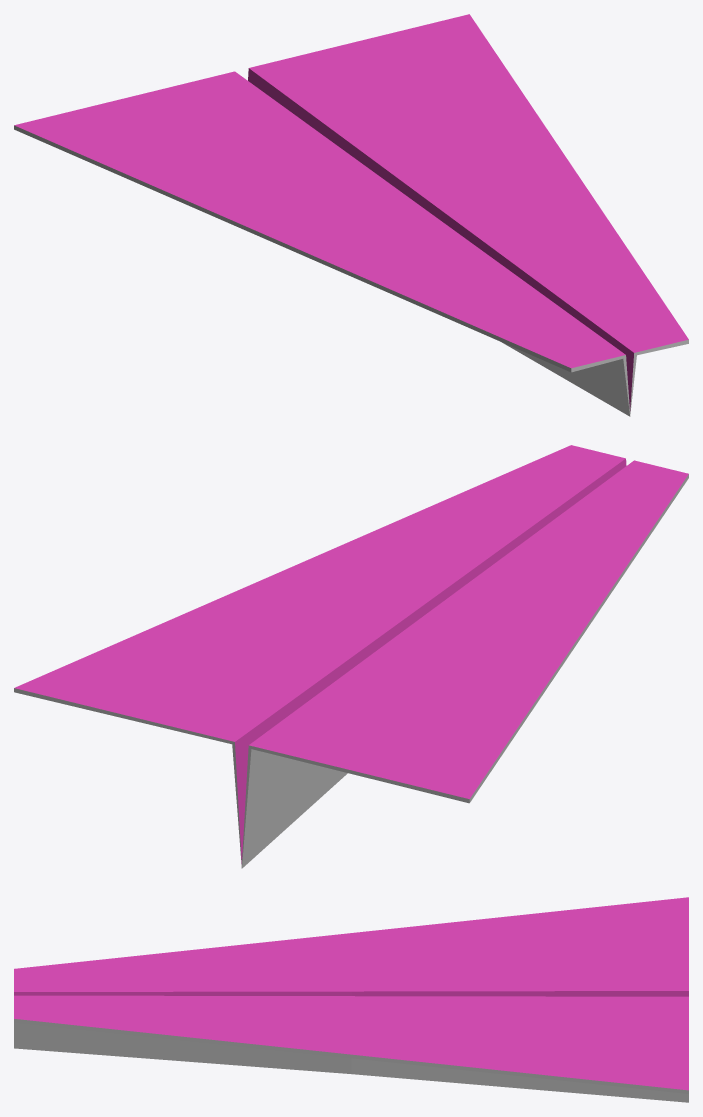
Rendered from PaperAirplane.fbx.
3 views of the same model, one above another, from view 1: azimuth 30°, elevation 25°; view 2: azimuth 150°, elevation 25°; view 3: azimuth 270°, elevation 25° (orthographic). The views are drawn at different scales.
Parts seen in each view (by area): view 1: PaperAirplane; view 2: PaperAirplane; view 3: PaperAirplane.
Part boxes in pixels (bbox=[...]): PaperAirplane: bbox=[14, 14, 688, 416]; PaperAirplane: bbox=[14, 445, 688, 868]; PaperAirplane: bbox=[14, 897, 688, 1102].
Bounding box in the file's own units: 1.13 × 0.2967 × 1.67.
